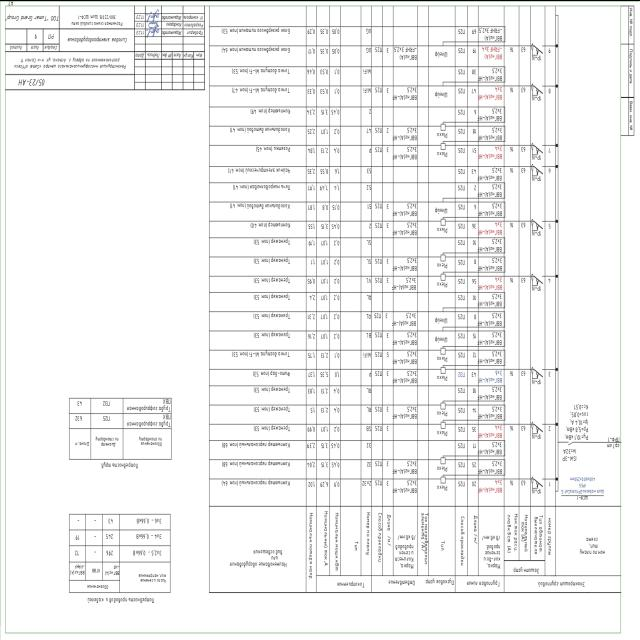-: (562, 475, 604, 494), (562, 445, 579, 464), (509, 478, 527, 486), (509, 220, 526, 228), (509, 424, 527, 431), (508, 369, 526, 376), (508, 45, 526, 52), (509, 145, 527, 152), (509, 86, 526, 93), (509, 276, 526, 283), (510, 165, 526, 172), (531, 432, 541, 440), (532, 378, 542, 385), (531, 284, 541, 291), (532, 230, 542, 237), (531, 94, 541, 101), (532, 54, 542, 61), (532, 487, 542, 494), (532, 175, 542, 182), (532, 154, 542, 160)
QFD: (531, 41, 544, 56), (531, 141, 544, 155), (531, 217, 544, 231), (531, 272, 544, 286), (531, 474, 544, 488), (531, 82, 544, 96), (531, 162, 544, 176), (532, 366, 544, 380), (532, 420, 544, 434)
QS: (566, 440, 574, 446)
